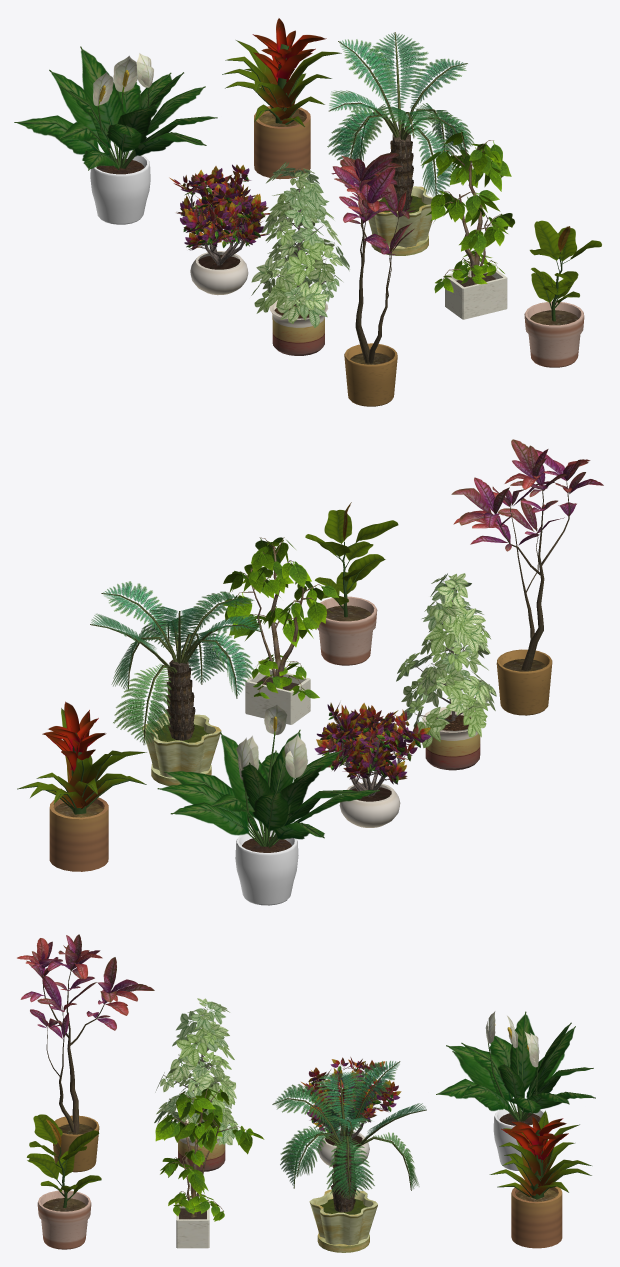
The model's file is pack1.glb.
3 renders of one model, top to bottom at view 1: azimuth 30°, elevation 25°; view 2: azimuth 150°, elevation 25°; view 3: azimuth 270°, elevation 25°, orthographic. The views are drawn at different scales.
Parts seen in each view (by area): view 1: plant2, plant8, plant3, plant4, plant5, plant1, plant7, pot8, pot6, pot7, plant6, pot1 (+4 smaller); view 2: plant2, plant8, plant3, plant4, plant1, plant5, plant7, pot7, pot8, pot2, pot6, plant6 (+4 smaller); view 3: plant2, plant8, plant3, plant1, plant4, plant7, plant5, pot2, pot7, pot6, plant6, pot1 (+4 smaller).
Part boxes in pixels (x1=…): plant2: x1=327, y1=32, x2=473, y2=210; plant8: x1=14, y1=46, x2=217, y2=170; plant3: x1=251, y1=162, x2=349, y2=327; plant4: x1=421, y1=129, x2=515, y2=293; plant5: x1=169, y1=164, x2=270, y2=265; plant1: x1=331, y1=152, x2=415, y2=363; plant7: x1=222, y1=18, x2=341, y2=126; pot8: x1=90, y1=151, x2=150, y2=224; pot6: x1=524, y1=301, x2=584, y2=367; pot7: x1=254, y1=106, x2=310, y2=179; plant6: x1=529, y1=220, x2=601, y2=321; pot1: x1=344, y1=343, x2=397, y2=406; plant2: x1=90, y1=581, x2=261, y2=744; plant8: x1=157, y1=704, x2=379, y2=847; plant3: x1=396, y1=573, x2=496, y2=748; plant4: x1=223, y1=537, x2=339, y2=701; plant1: x1=451, y1=439, x2=603, y2=670; plant5: x1=314, y1=703, x2=430, y2=796; plant7: x1=17, y1=701, x2=146, y2=814; pot7: x1=49, y1=797, x2=108, y2=871; pot8: x1=235, y1=828, x2=298, y2=905; pot2: x1=142, y1=713, x2=221, y2=785; pot6: x1=317, y1=596, x2=377, y2=665; plant6: x1=305, y1=502, x2=398, y2=617; plant2: x1=272, y1=1061, x2=426, y2=1212; plant8: x1=436, y1=1011, x2=595, y2=1121; plant3: x1=154, y1=998, x2=237, y2=1145; plant1: x1=17, y1=934, x2=154, y2=1132; plant4: x1=155, y1=1087, x2=264, y2=1221; plant7: x1=489, y1=1110, x2=591, y2=1199; plant5: x1=301, y1=1057, x2=401, y2=1141; pot2: x1=309, y1=1189, x2=377, y2=1252; pot7: x1=511, y1=1184, x2=562, y2=1248; pot6: x1=37, y1=1190, x2=91, y2=1249; plant6: x1=26, y1=1114, x2=101, y2=1207; pot1: x1=53, y1=1115, x2=99, y2=1172.
Size of the model in its own units: 0.0794 by 0.0543 by 0.1316.
44 materials, 44 textured.
